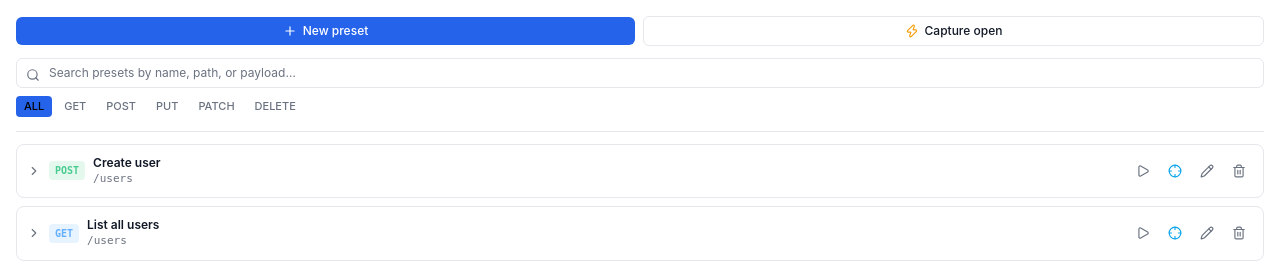
Test: RequestsPanel › filters presets by search query and method
Expected: the text "Create user" is shown, left=93, top=154, right=161, bottom=170
Expected: the text "List all users" is shown, left=87, top=217, right=160, bottom=232
// Filter by text
Type "List" into the field with placeholder "Search presets by name, path, or payload…" at (640, 73), box left=16, top=58, right=1264, bottom=88
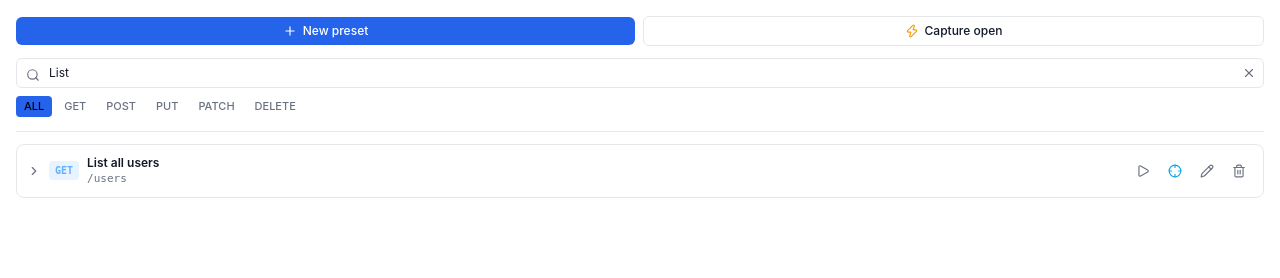
Expected: the text "List all users" is shown, left=87, top=154, right=160, bottom=170
Now the text "Create user" is gone
// Clear search
Clear the field with placeholder "Search presets by name, path, or payload…" at (640, 73), box left=16, top=58, right=1264, bottom=88
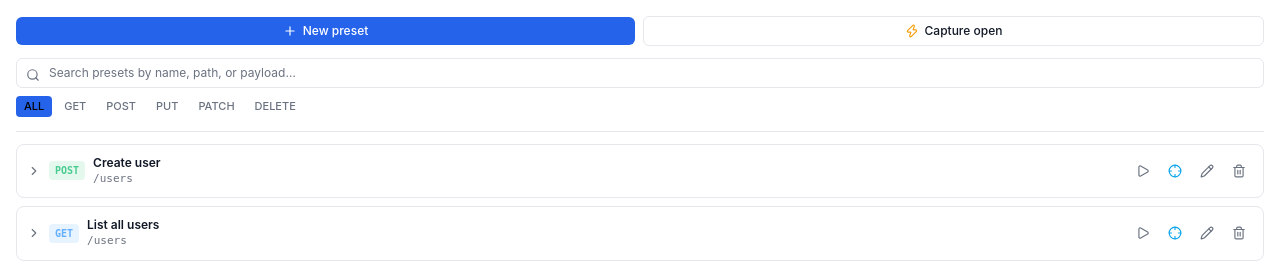
Now the text "Create user" is shown, box left=93, top=154, right=161, bottom=170
// Filter by GET method pill
Click the button "GET" at (75, 106), box left=56, top=96, right=94, bottom=116
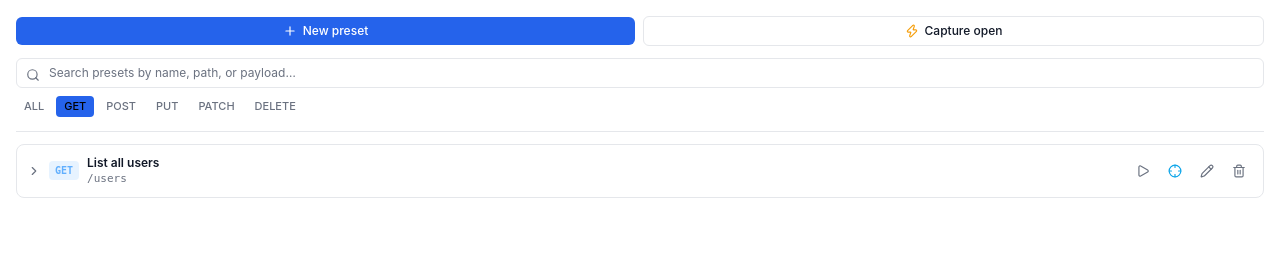
Expected: the text "List all users" is shown, left=87, top=154, right=160, bottom=170
Now the text "Create user" is gone
